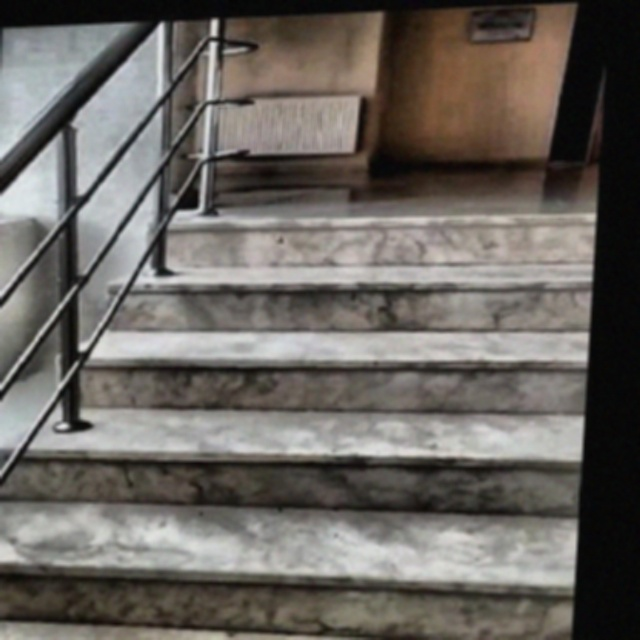stair: (2, 200, 604, 638)
